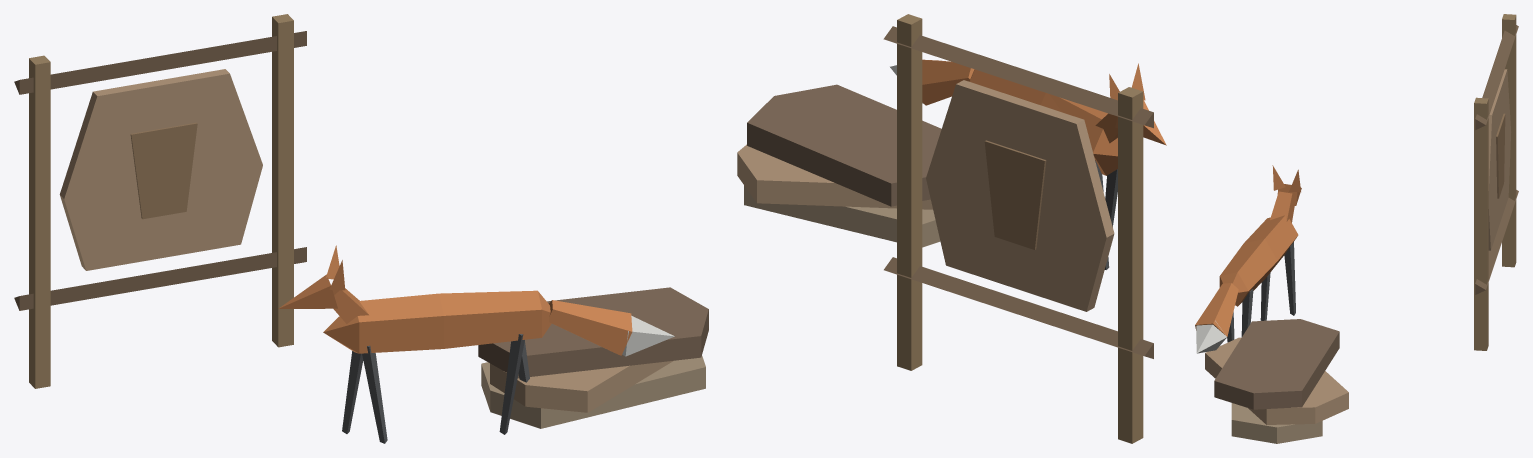
The model's file is furs.glb.
The picture shows the model from 3 angles, left to right: view 1: azimuth 30°, elevation 25°; view 2: azimuth 150°, elevation 25°; view 3: azimuth 270°, elevation 25°; orthographic projection. The views are drawn at different scales.
Visible parts, largest first — view 1: LOD0; view 2: LOD0; view 3: LOD0.
Boxes of the visible parts, x1,y1,x2,y2 form: LOD0: (14, 14, 708, 443); LOD0: (737, 14, 1166, 443); LOD0: (1195, 14, 1518, 443).
Size of what is drawn, in the model's own units: 0.6111 by 0.36 by 0.4274.
